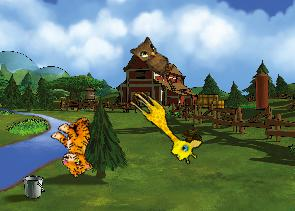giraffe: (119, 86, 207, 168)
owl: (127, 32, 181, 79)
tiger: (44, 111, 110, 180)
